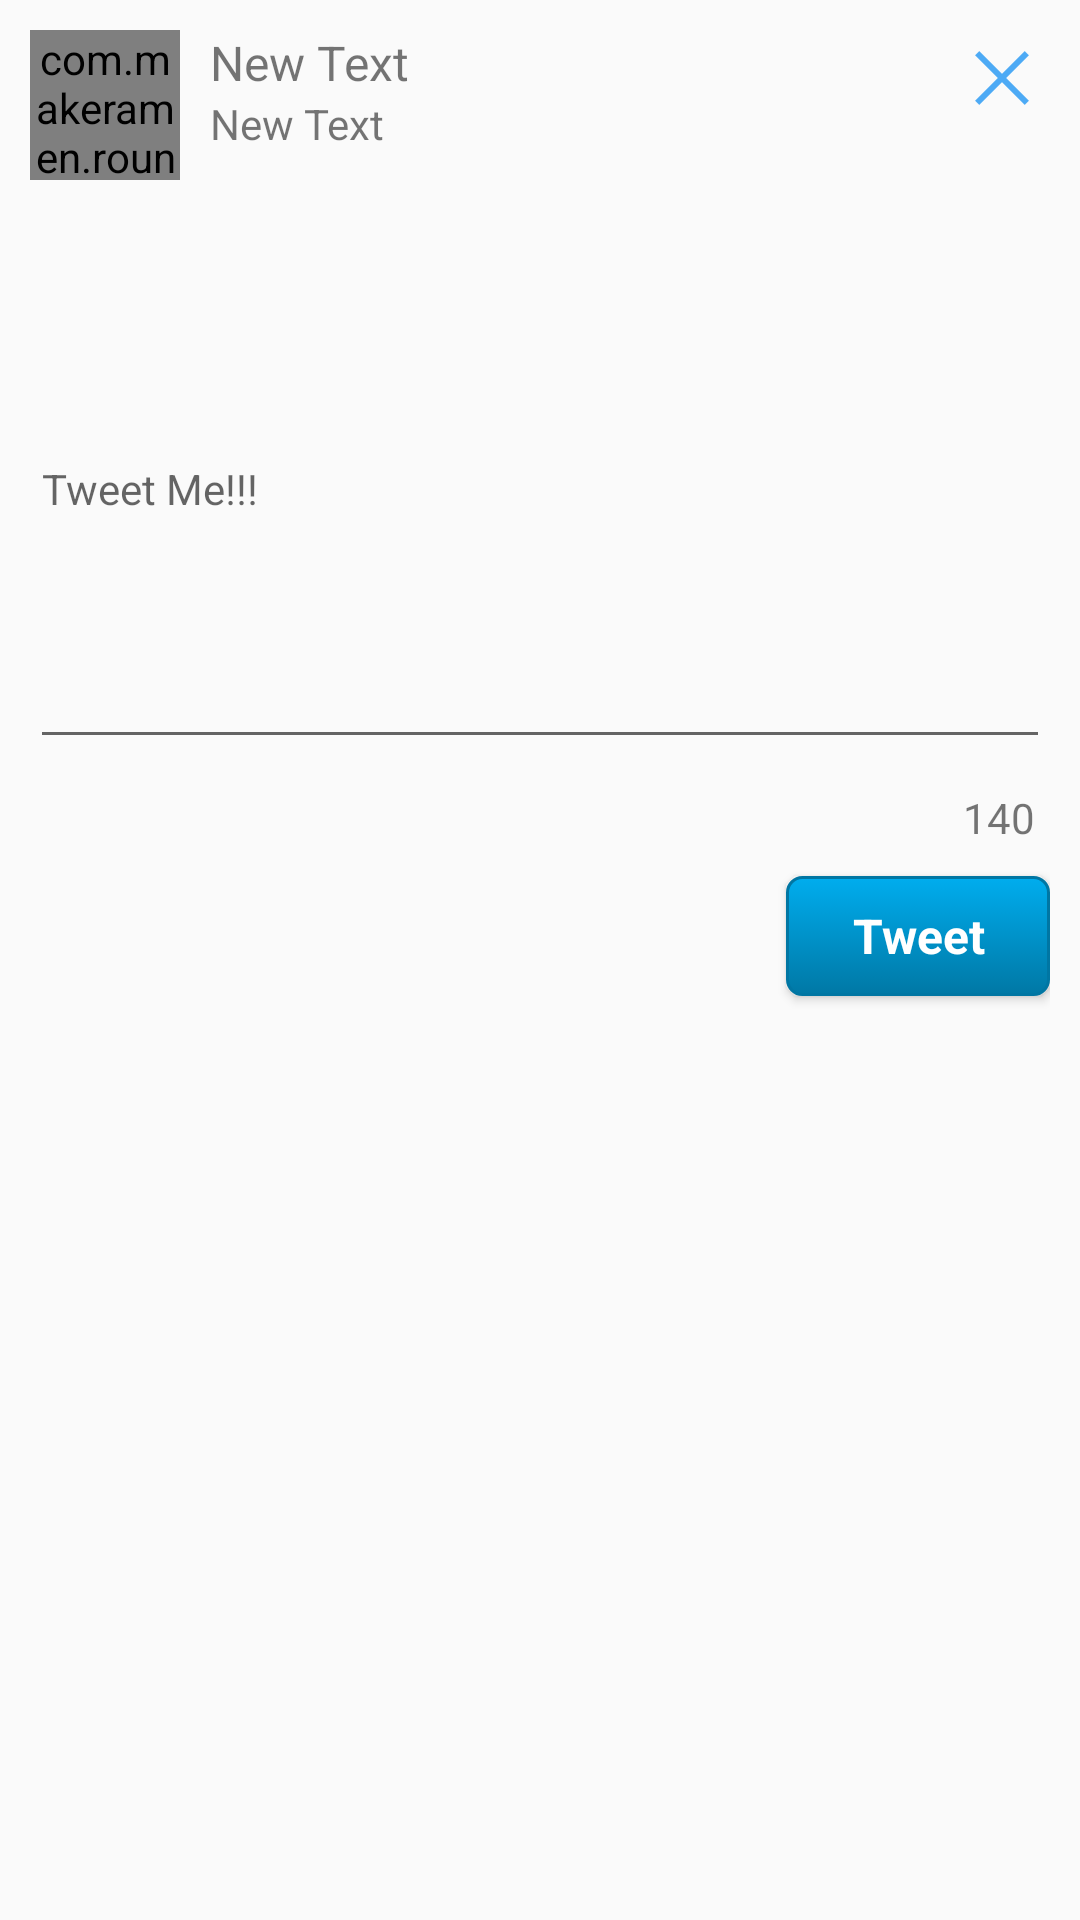

Named icons in this screenshot (1080w x 1920h) and their centers, (x=x, y=y):
close: (x=1002, y=78)
